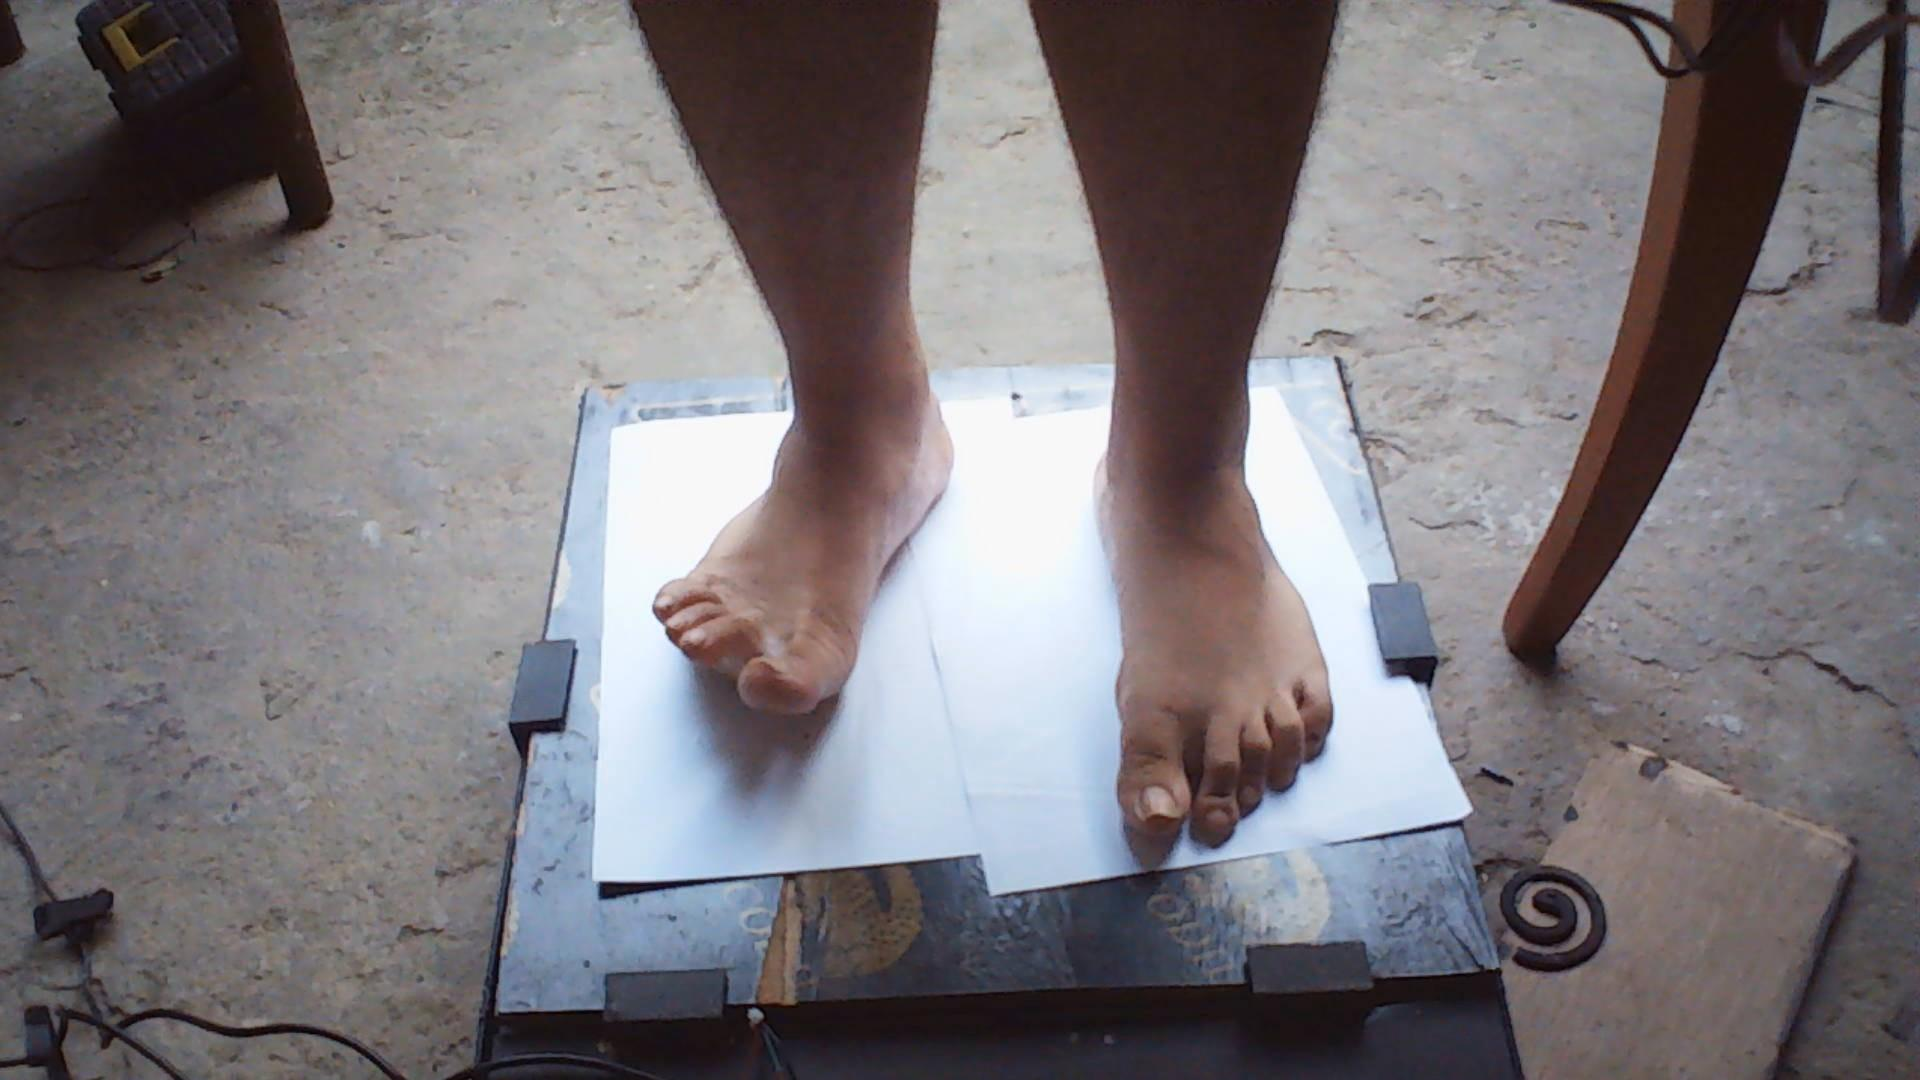Bare_feet: (645, 376, 1002, 737), (1076, 384, 1341, 869)
